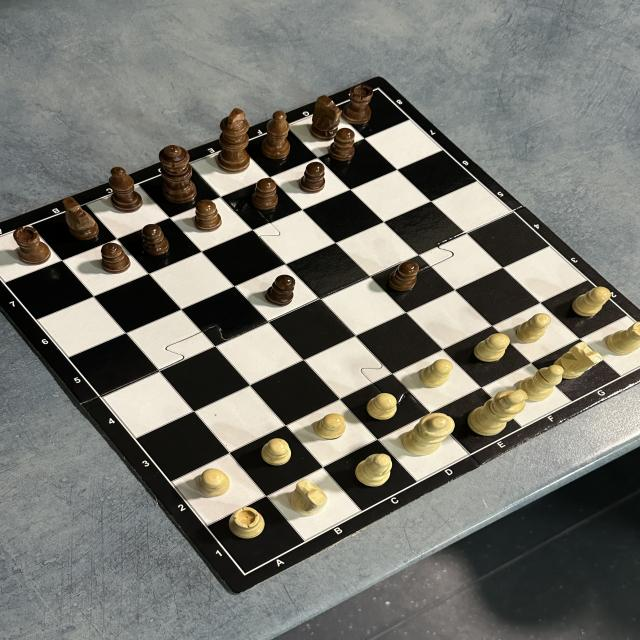Black-Bishop: (108, 167, 144, 213), (261, 110, 292, 160)
Black-King: (216, 108, 251, 174)
Black-Knight: (62, 196, 100, 241), (309, 95, 343, 142)
Black-Pawn: (266, 274, 296, 306), (141, 223, 170, 256), (100, 243, 130, 274), (388, 261, 419, 291), (328, 128, 356, 160), (298, 162, 326, 194), (195, 199, 222, 232), (252, 178, 278, 210)
Black-Queen: (159, 144, 198, 204)
Black-Rook: (13, 226, 51, 266), (341, 84, 374, 124)
White-Bishop: (518, 364, 564, 402), (354, 453, 392, 488)
White-King: (468, 388, 528, 436)
White-Knight: (554, 341, 604, 380), (290, 478, 328, 517)
White-Pawn: (572, 286, 611, 318), (516, 312, 552, 344), (474, 333, 510, 362), (420, 358, 453, 388), (199, 467, 231, 497), (366, 392, 398, 420), (315, 413, 346, 440), (262, 438, 291, 466)
White-Queen: (402, 412, 456, 456)
White-Rook: (606, 319, 640, 356), (228, 506, 266, 539)
